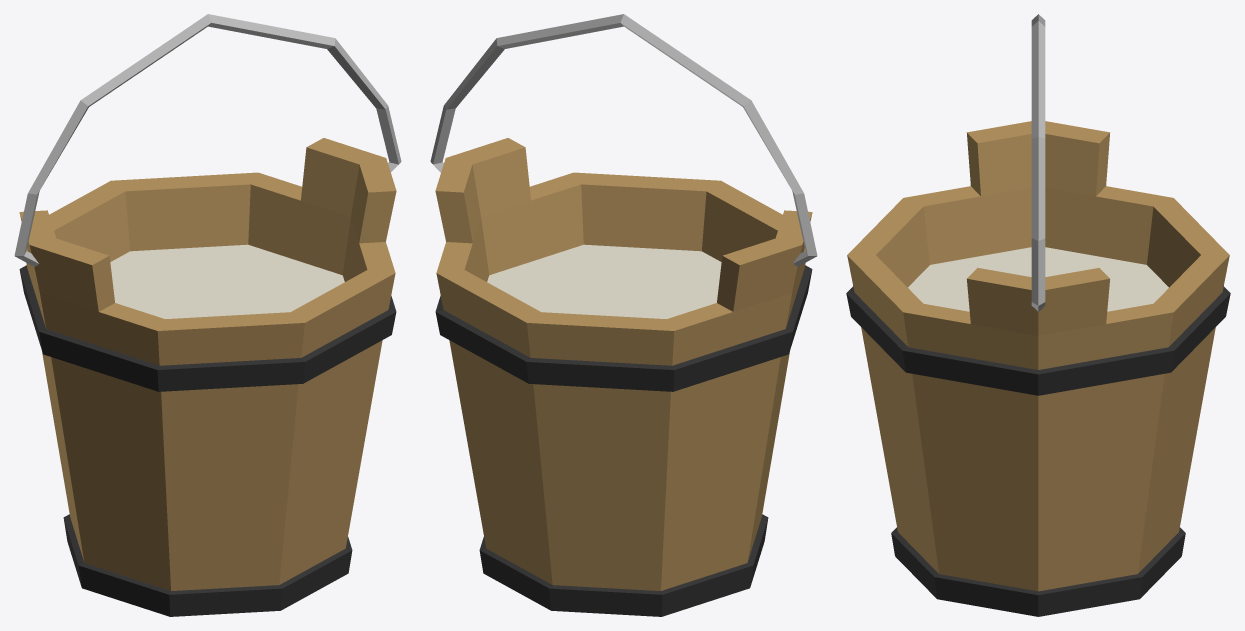
Rendered from Bucket2Milk.fbx.
3 renders of one model, left to right at view 1: azimuth 30°, elevation 25°; view 2: azimuth 150°, elevation 25°; view 3: azimuth 270°, elevation 25°, orthographic.
Parts seen in each view (by area): view 1: Cylinder, Cylinder.001; view 2: Cylinder, Cylinder.001; view 3: Cylinder, Cylinder.001.
Part boxes in pixels (x1,y1,x2,y2): Cylinder: (19, 138, 396, 616); Cylinder.001: (14, 14, 401, 266); Cylinder: (435, 138, 812, 616); Cylinder.001: (430, 14, 817, 266); Cylinder: (846, 121, 1230, 616); Cylinder.001: (1031, 14, 1045, 311).
Bounding box in the file's own units: 0.741 × 0.9943 × 0.647.
